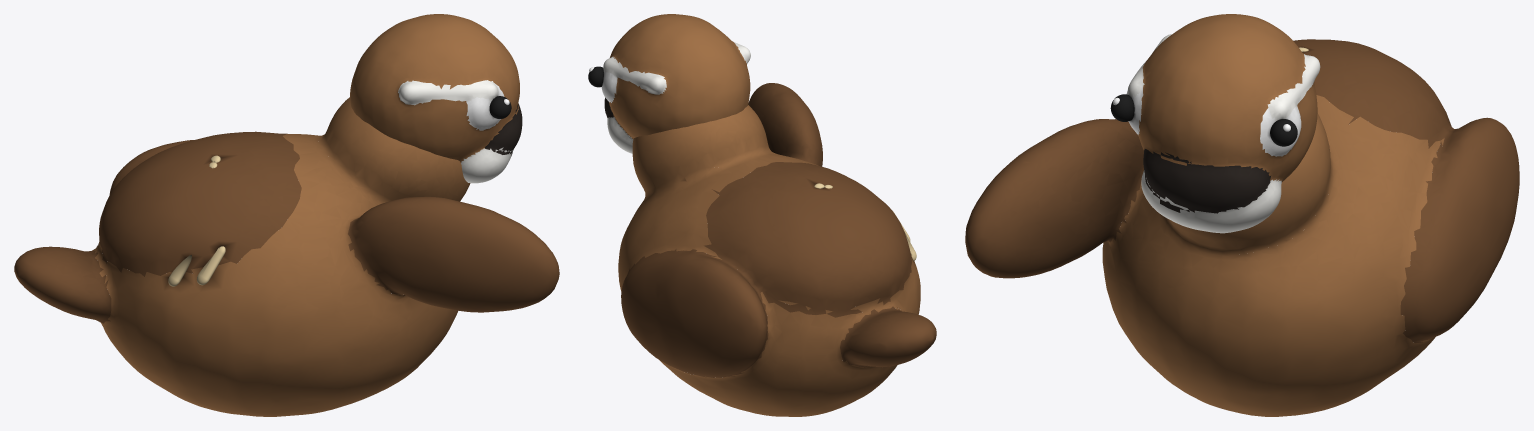
The model's file is jag-gillar-att-promenera.glb.
The picture shows the model from 3 angles, left to right: view 1: azimuth 30°, elevation 25°; view 2: azimuth 150°, elevation 25°; view 3: azimuth 270°, elevation 25°; orthographic projection. The views are drawn at different scales.
Visible parts, largest first — view 1: codorna__r0, cabeca__r0; view 2: codorna__r0, cabeca__r0; view 3: codorna__r0, cabeca__r0, cabeca__r4, cabeca__r2.
Boxes of the visible parts, x1,y1,x2,y2 form: codorna__r0: (14,97,559,416); cabeca__r0: (350,14,522,183); codorna__r0: (618,83,936,416); cabeca__r0: (601,14,750,153); codorna__r0: (965,39,1519,416); cabeca__r0: (1126,14,1320,233); cabeca__r4: (1270,119,1297,146); cabeca__r2: (1110,94,1134,121).
Bounding box in the file's own units: 1.62 × 1.33 × 1.52.
